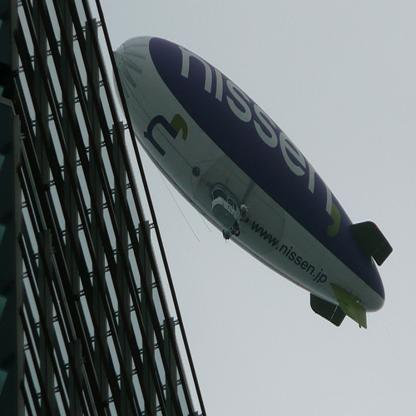Airship: (114, 34, 394, 335)
